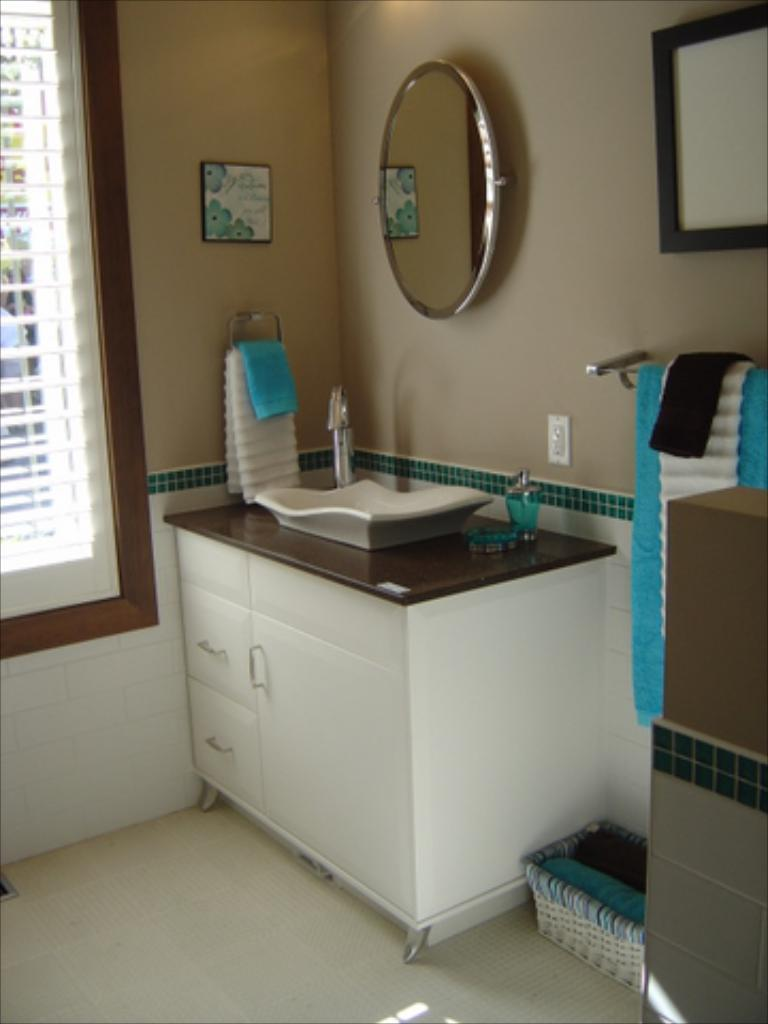cabinet door: (254, 630, 392, 819), (193, 703, 268, 789), (184, 609, 256, 688)
handle: (245, 647, 271, 697), (199, 724, 235, 759), (193, 637, 229, 666)
